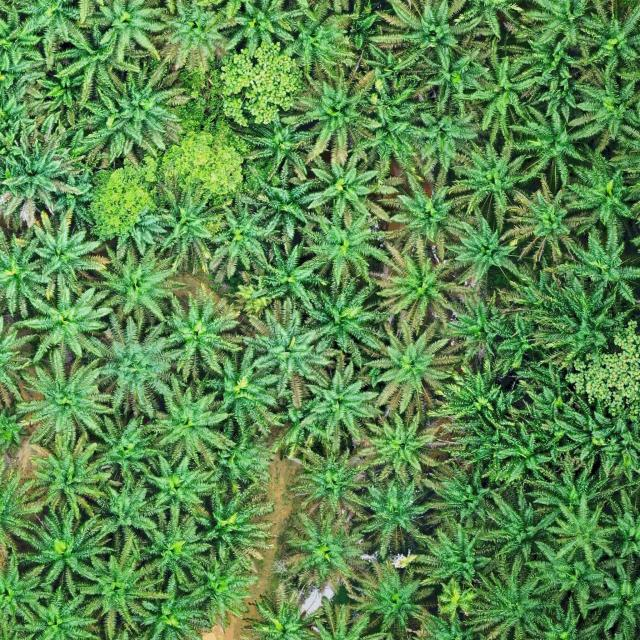Tree: (78, 59, 190, 175), (196, 334, 296, 452), (237, 294, 349, 399), (362, 232, 477, 333), (89, 307, 189, 422), (286, 270, 390, 372), (0, 111, 84, 236), (355, 316, 458, 417), (138, 370, 236, 474), (290, 352, 391, 452), (143, 284, 245, 383), (14, 352, 114, 451), (535, 271, 631, 373), (364, 0, 488, 76), (64, 551, 169, 640), (293, 144, 407, 224), (84, 237, 178, 332), (184, 484, 278, 578), (12, 507, 112, 595), (14, 208, 106, 303), (283, 65, 381, 154), (10, 280, 110, 365), (550, 218, 640, 312), (374, 164, 464, 258), (278, 507, 377, 591), (448, 136, 538, 226), (300, 204, 394, 290), (507, 98, 600, 184), (459, 563, 562, 640), (153, 182, 234, 277), (447, 50, 545, 128), (355, 406, 447, 488), (344, 556, 438, 636), (216, 41, 302, 128), (440, 210, 525, 298), (282, 0, 372, 83), (232, 155, 323, 237), (27, 434, 112, 521), (90, 458, 177, 542), (348, 476, 434, 560), (91, 407, 172, 495), (289, 436, 372, 521), (507, 179, 590, 264), (413, 456, 502, 534), (177, 552, 260, 634), (475, 488, 557, 570), (72, 0, 171, 67), (84, 152, 160, 239), (565, 391, 640, 479), (241, 112, 323, 192), (560, 146, 640, 228), (567, 58, 640, 146), (540, 486, 617, 569), (440, 286, 519, 366), (251, 235, 329, 315), (526, 450, 624, 512), (406, 104, 490, 176), (209, 193, 278, 280), (428, 356, 510, 428), (160, 130, 248, 195), (137, 450, 221, 518), (481, 418, 555, 495), (215, 0, 307, 61), (519, 0, 606, 62), (203, 418, 279, 488), (579, 1, 640, 86), (418, 518, 494, 584), (503, 360, 569, 426), (495, 260, 559, 322), (492, 311, 550, 362)
